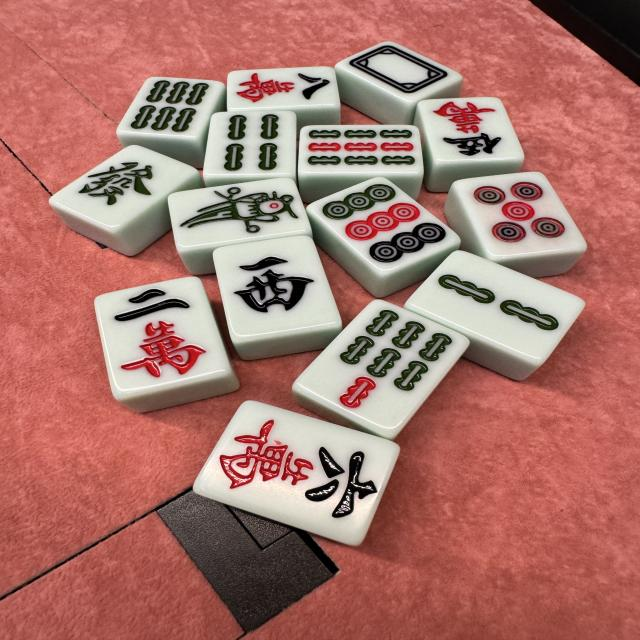hdg: (49, 145, 198, 233)
hdw: (334, 41, 463, 101)
hww: (213, 237, 342, 342)
sb1: (168, 178, 314, 250)
sb2: (405, 249, 587, 364)
sb4: (203, 111, 298, 177)
sb6: (117, 76, 224, 139)
sb7: (292, 298, 470, 434)
sb9: (298, 125, 423, 174)
sc2: (94, 276, 232, 397)
sc5: (416, 96, 525, 162)
sc6: (192, 401, 401, 547)
sc8: (225, 67, 340, 109)
sd5: (452, 171, 588, 261)
sd9: (307, 176, 460, 276)
